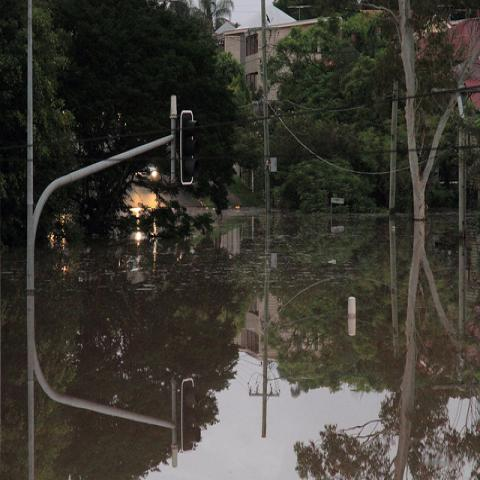car: (138, 165, 160, 182)
